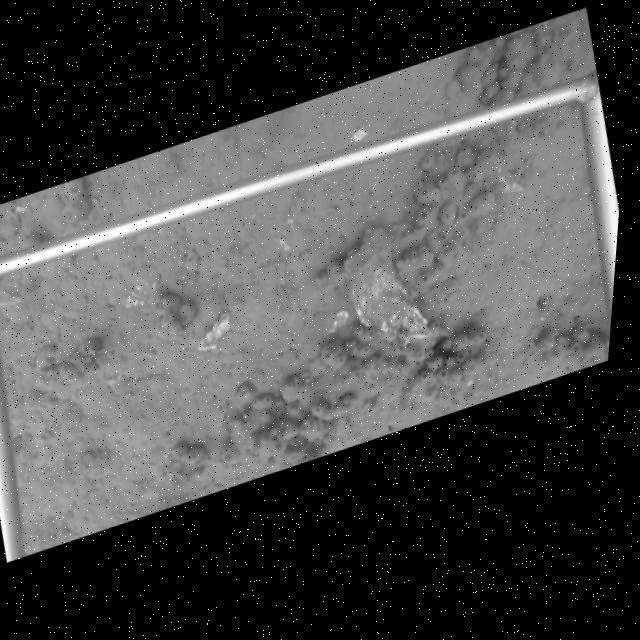Oyster-Closed: (339, 224, 435, 350)
